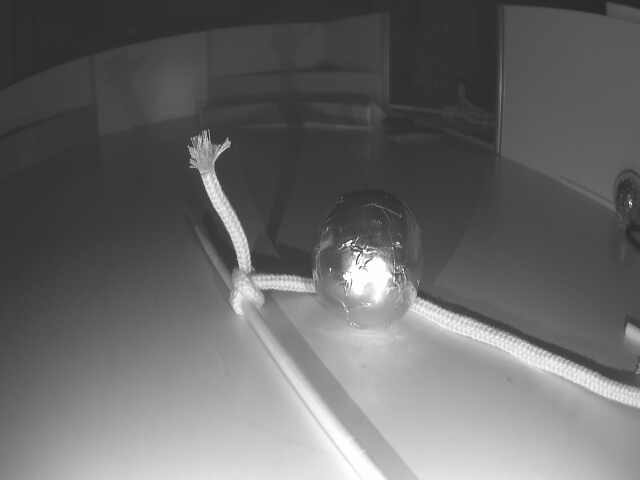Live: (318, 192, 422, 329), (613, 172, 640, 219)
